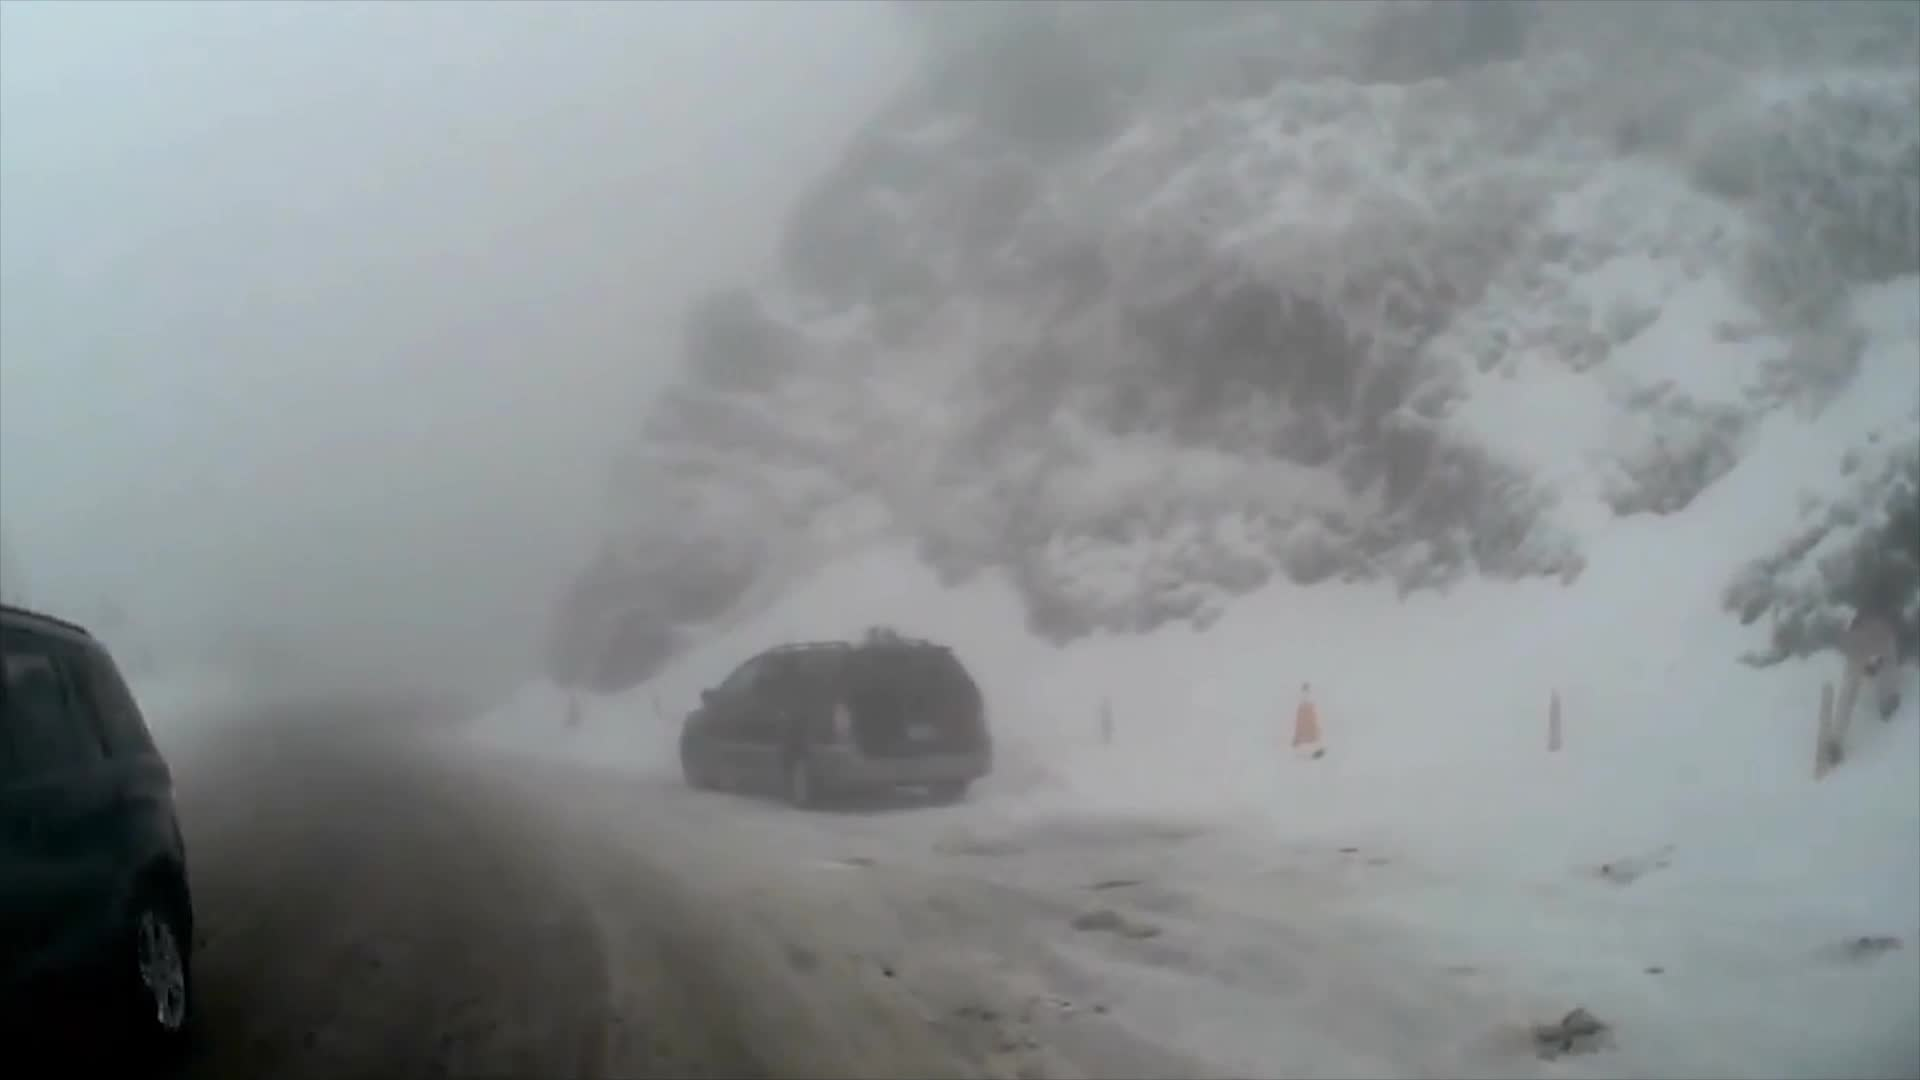vehicle: (0, 601, 200, 1080), (678, 640, 992, 808)
